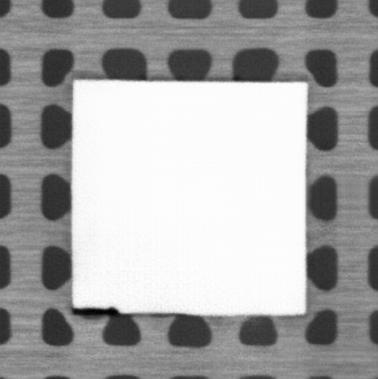DIE_BROKEN: (69, 306, 122, 317)
